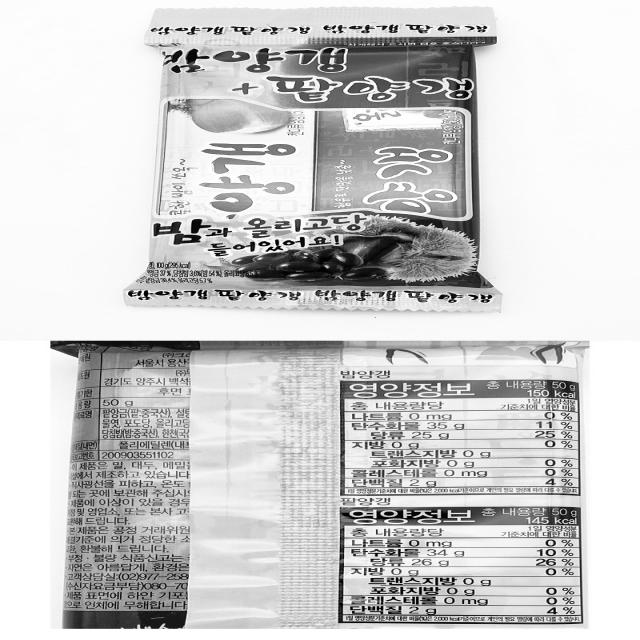Nutrition Label: (334, 497, 594, 629), (332, 375, 592, 496)
